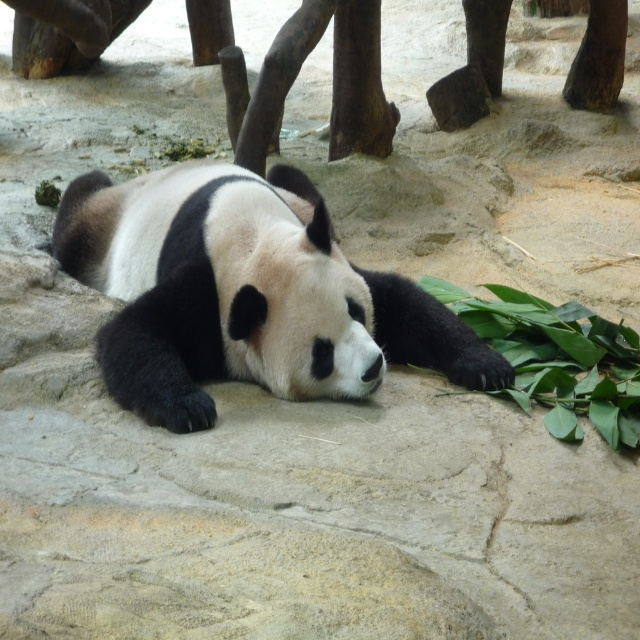Panda: (48, 151, 513, 436)
